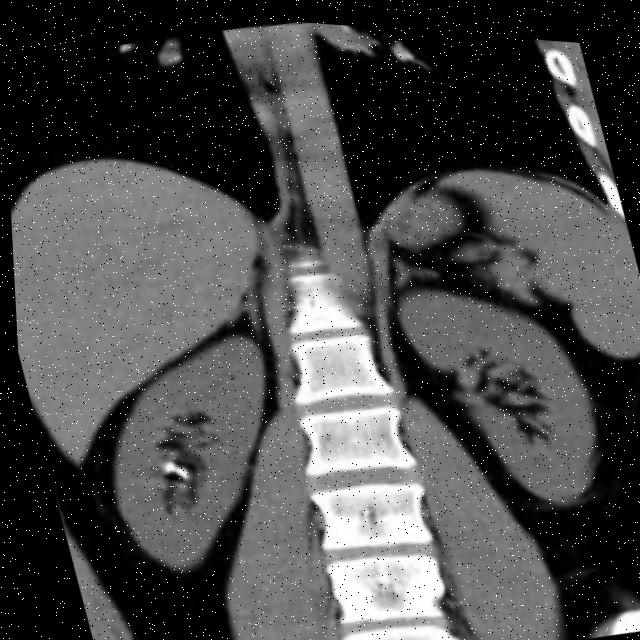Tas_Var: (169, 459, 191, 480), (154, 456, 173, 474)
